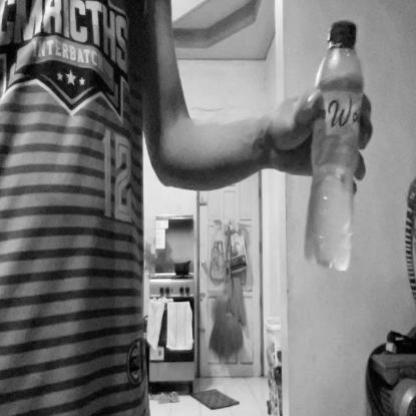Plastic Bottle: (305, 17, 358, 274)
